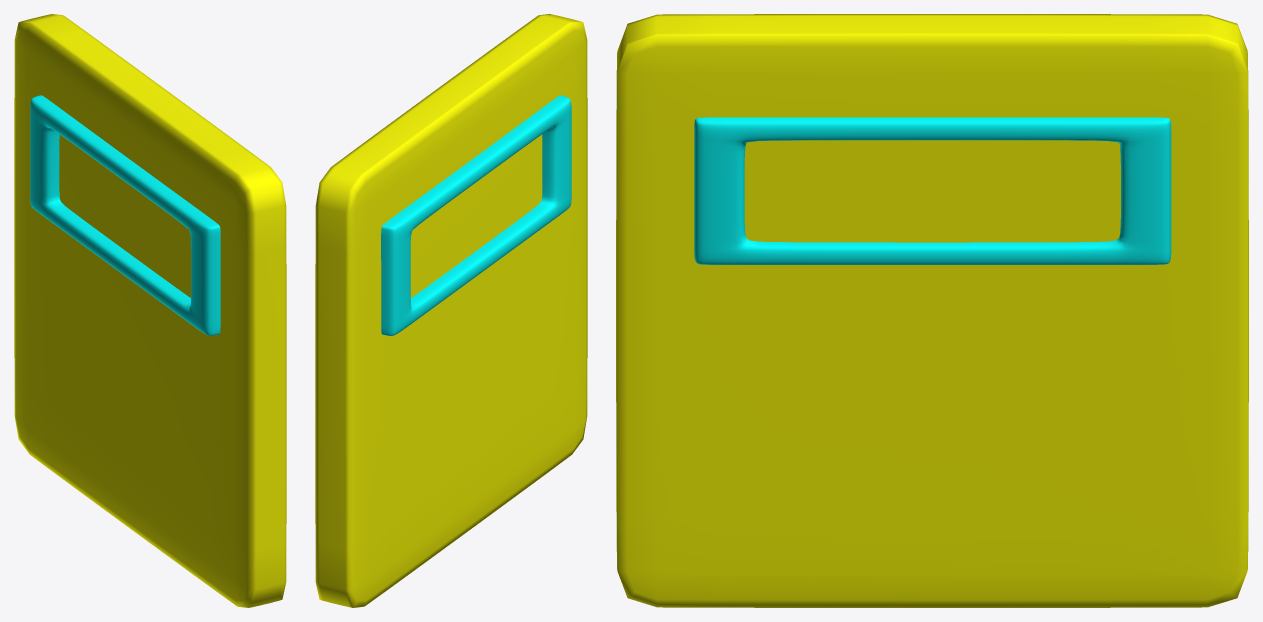
3 views of the same model, side by side, from view 1: azimuth 30°, elevation 25°; view 2: azimuth 150°, elevation 25°; view 3: azimuth 270°, elevation 25° (orthographic). The views are drawn at different scales.
Visible parts, largest first — view 1: polySurface969; view 2: polySurface969; view 3: polySurface969.
Boxes of the visible parts, x1,y1,x2,y2 form: polySurface969: (14, 14, 286, 607); polySurface969: (315, 14, 587, 607); polySurface969: (616, 14, 1248, 607).
Bounding box in the file's own units: 0.1498 × 0.9994 × 0.9994.
